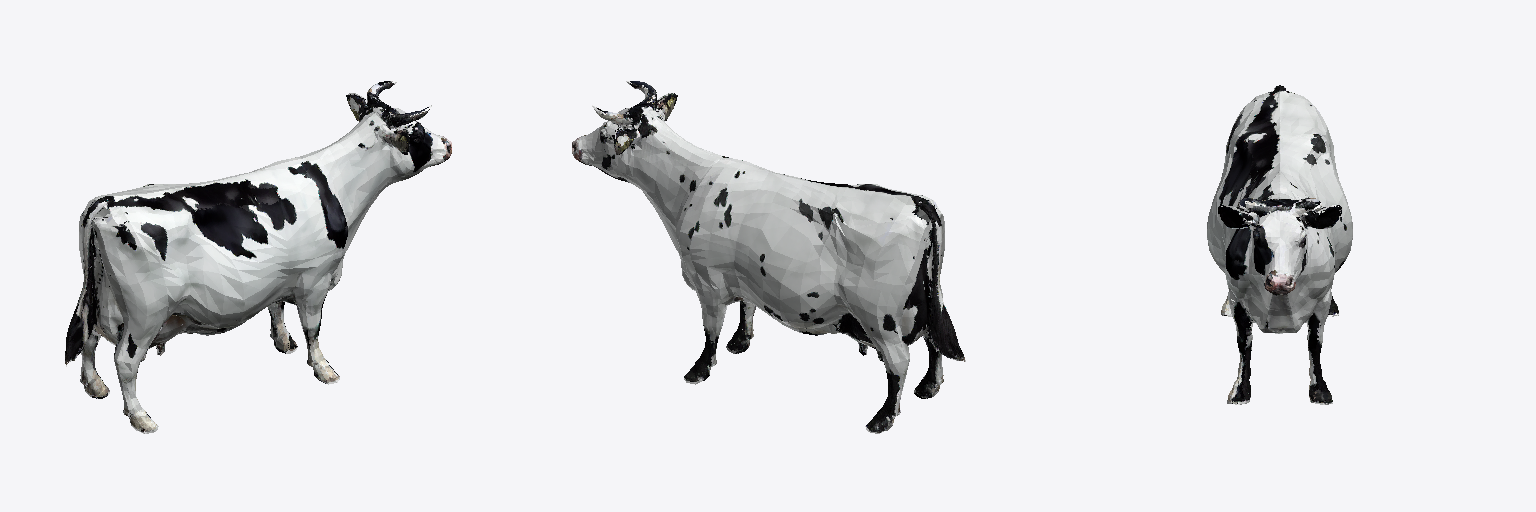
3 views of the same model, side by side, from view 1: azimuth 30°, elevation 25°; view 2: azimuth 150°, elevation 25°; view 3: azimuth 270°, elevation 25° (orthographic).
Bounding box in the file's own units: 1 × 0.6125 × 0.3258.
1 materials, 1 textured.